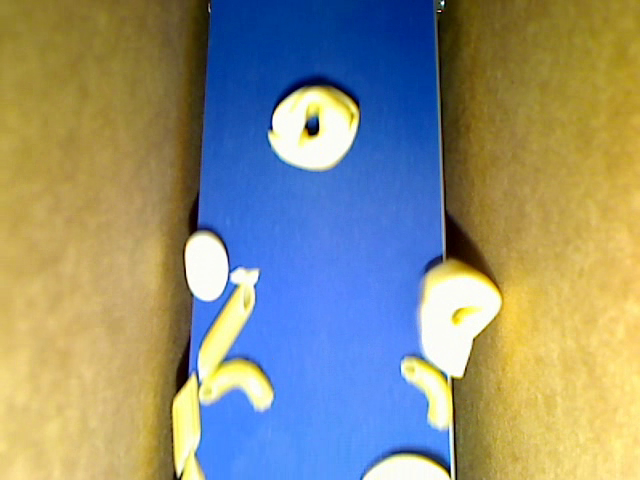elbow: (399, 354, 453, 431), (199, 357, 275, 411)
penne: (196, 277, 256, 385), (171, 371, 201, 478)
tortellini: (419, 259, 502, 381), (265, 84, 360, 172)
